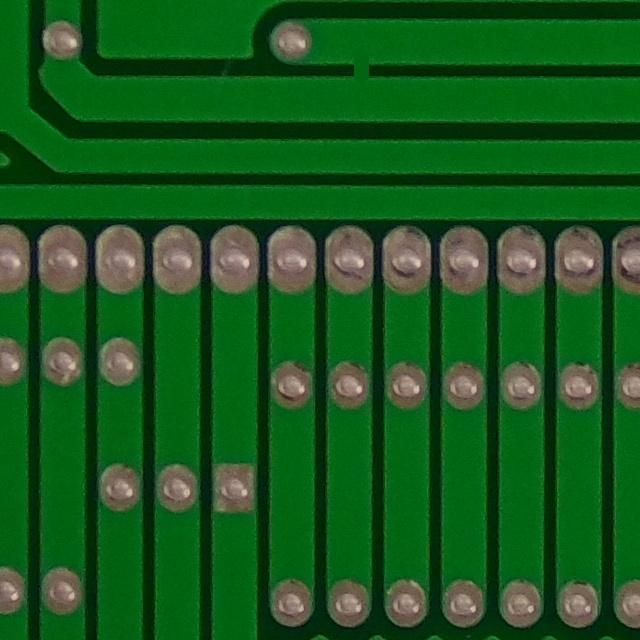short: (310, 10, 410, 117)
